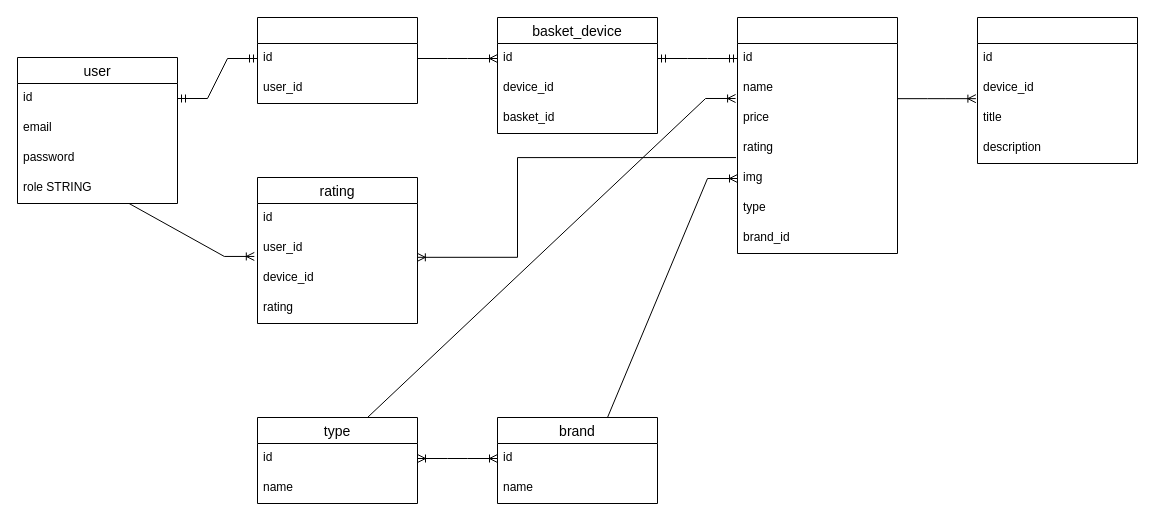
Some shapes in this 1155 by 524 pixel diagram are drawn without their labels. The box of each missing label's shape, as (x1, y1, x2, y2) in pixels:
basket: (256, 16, 418, 104)
device: (736, 16, 898, 254)
device_info: (976, 16, 1138, 164)
